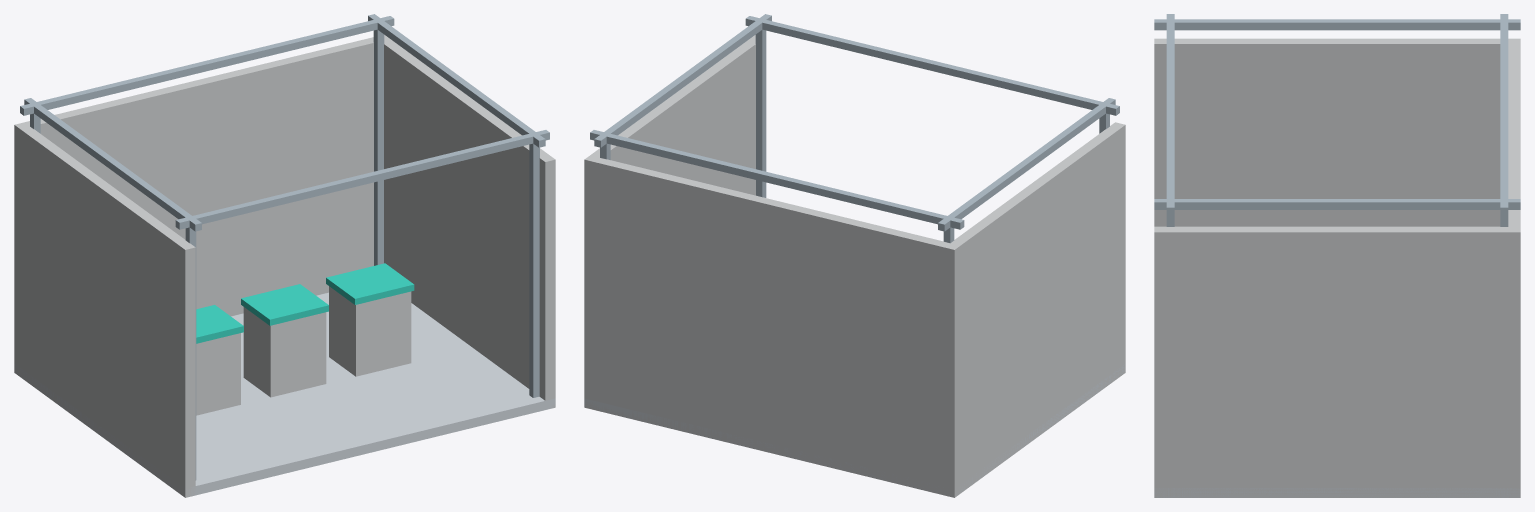
3 views of the same model, side by side, from view 1: azimuth 30°, elevation 25°; view 2: azimuth 150°, elevation 25°; view 3: azimuth 270°, elevation 25° (orthographic). The views are drawn at different scales.
Visible parts, largest first — view 1: Exhibition Booth Concept; view 2: Exhibition Booth Concept; view 3: Exhibition Booth Concept.
Part boxes in pixels (<box>): Exhibition Booth Concept: <box>14,14,555,497</box>; Exhibition Booth Concept: <box>584,14,1125,497</box>; Exhibition Booth Concept: <box>1154,14,1520,497</box>.
Bounding box in the file's own units: 5 × 3.49 × 4.
